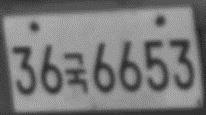3: (169, 38, 195, 90), (11, 44, 36, 95)
5: (143, 39, 170, 92)
6: (91, 41, 116, 93), (118, 40, 143, 91), (40, 42, 64, 95)
국: (62, 51, 90, 94)
